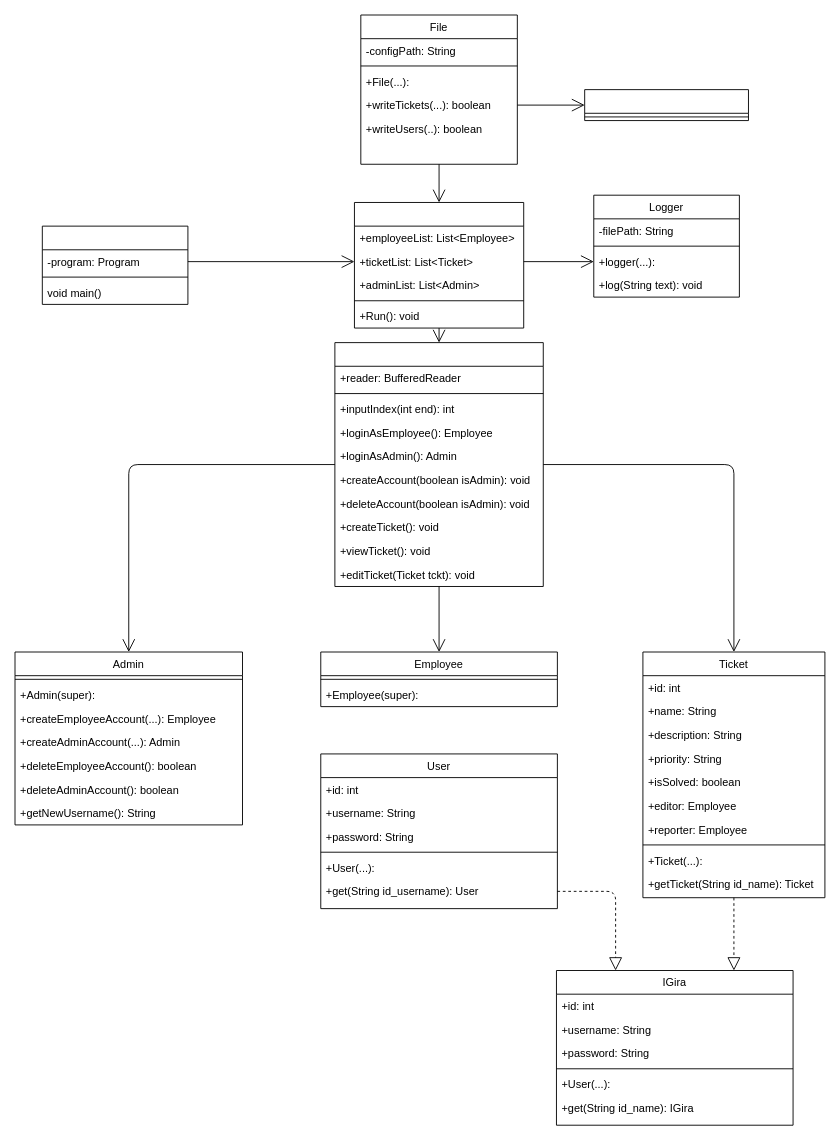
The diagram is 840 pixels wide and 1140 high, and some of its shapes have lost their labels. The shapes that lost their labels are listed below. From the top down, each one's box as (x1, y1, x2, y2) in pixels, then its label:
(584, 89, 748, 121): ConfigNotFoundException
(41, 225, 188, 304): GiraV2
(354, 202, 524, 328): Program
(334, 342, 543, 586): Navigation
